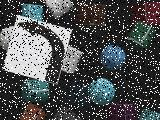Left: (2, 15, 72, 85)
